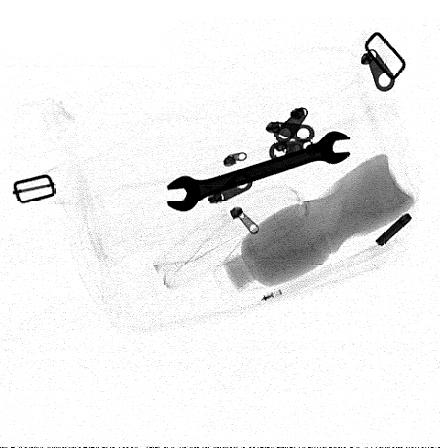Wrench: (167, 129, 354, 211)
